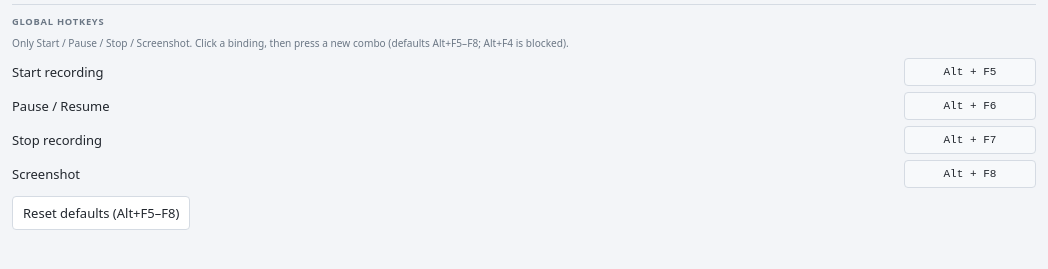
HotkeySettings › rejects Alt+F4 and keeps listening
Click the button "Alt + F5": (970, 72) [904,58,1036,86]
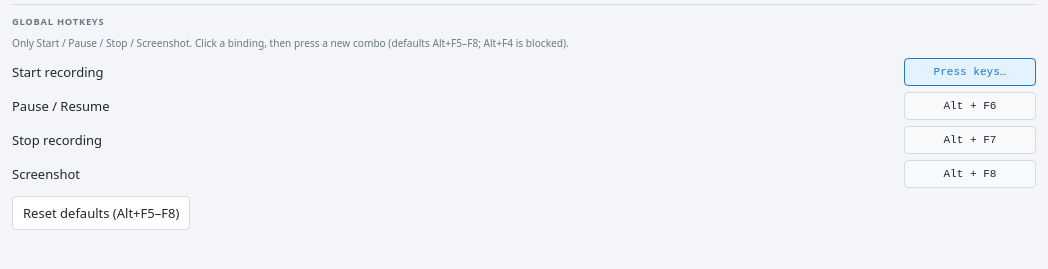
Press F4
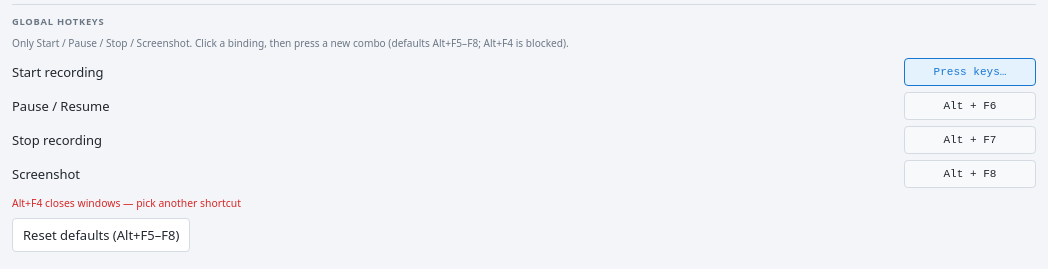
expect the text "Alt+F4 closes windows — pick another shortcut" is shown: met, box [12,196,241,210]
